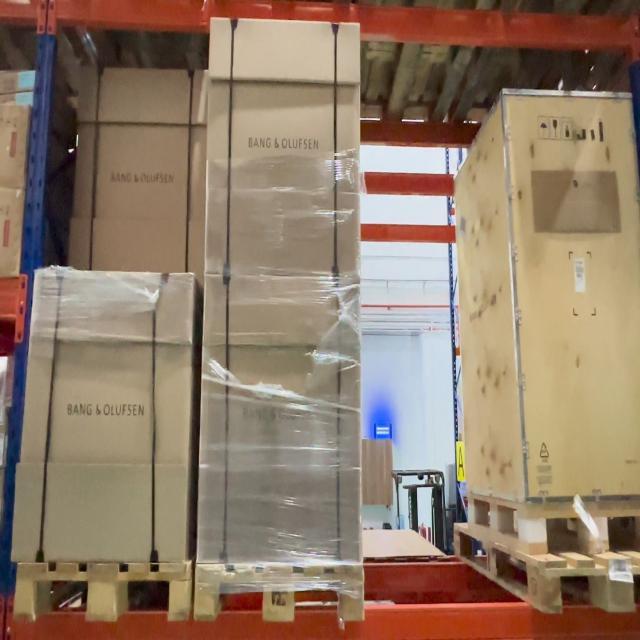box: (11, 267, 195, 564), (197, 272, 361, 564), (203, 20, 363, 277), (67, 67, 210, 286)
